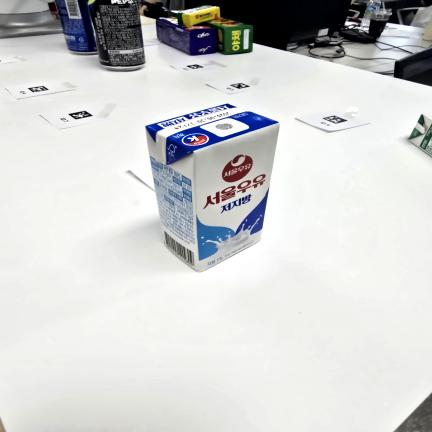milk_blue: (144, 103, 280, 272)
